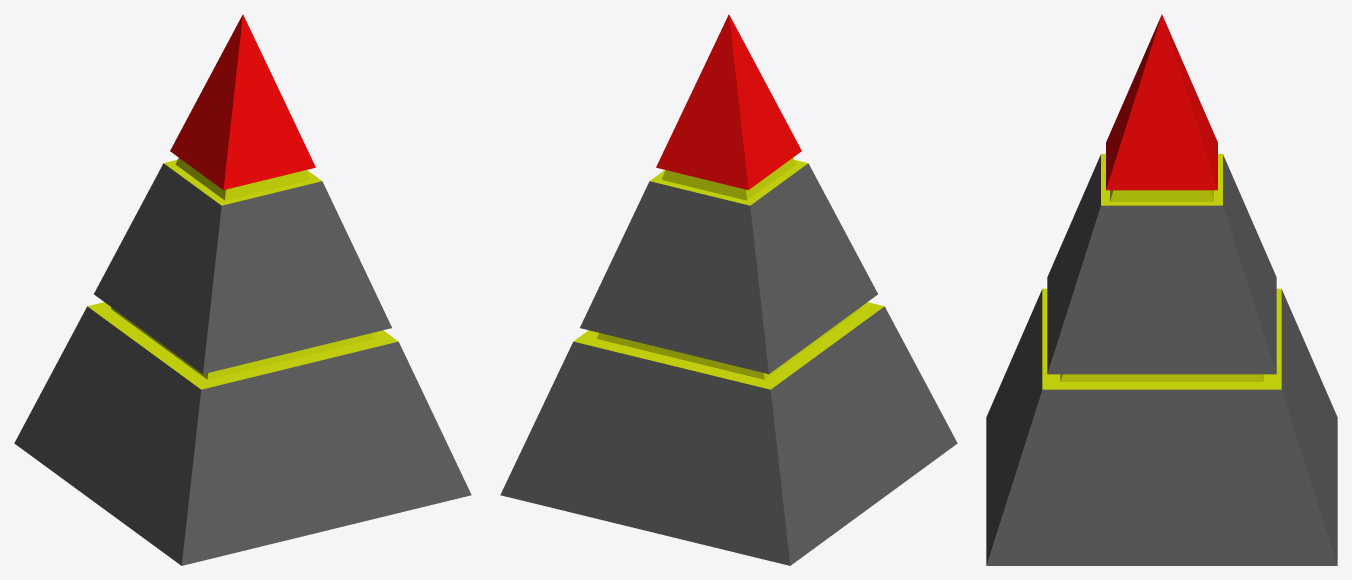
The model's file is SpikeWide.fbx.
3 views of the same model, side by side, from view 1: azimuth 30°, elevation 25°; view 2: azimuth 150°, elevation 25°; view 3: azimuth 270°, elevation 25° (orthographic). The views are drawn at different scales.
Visible parts, largest first — view 1: SpikeWide; view 2: SpikeWide; view 3: SpikeWide.
Part boxes in pixels (left/top/right/bottom): SpikeWide: left=14, top=14, right=471, bottom=565; SpikeWide: left=500, top=14, right=957, bottom=565; SpikeWide: left=986, top=14, right=1337, bottom=565.
Size of the model in its own units: 200 by 300 by 200.
